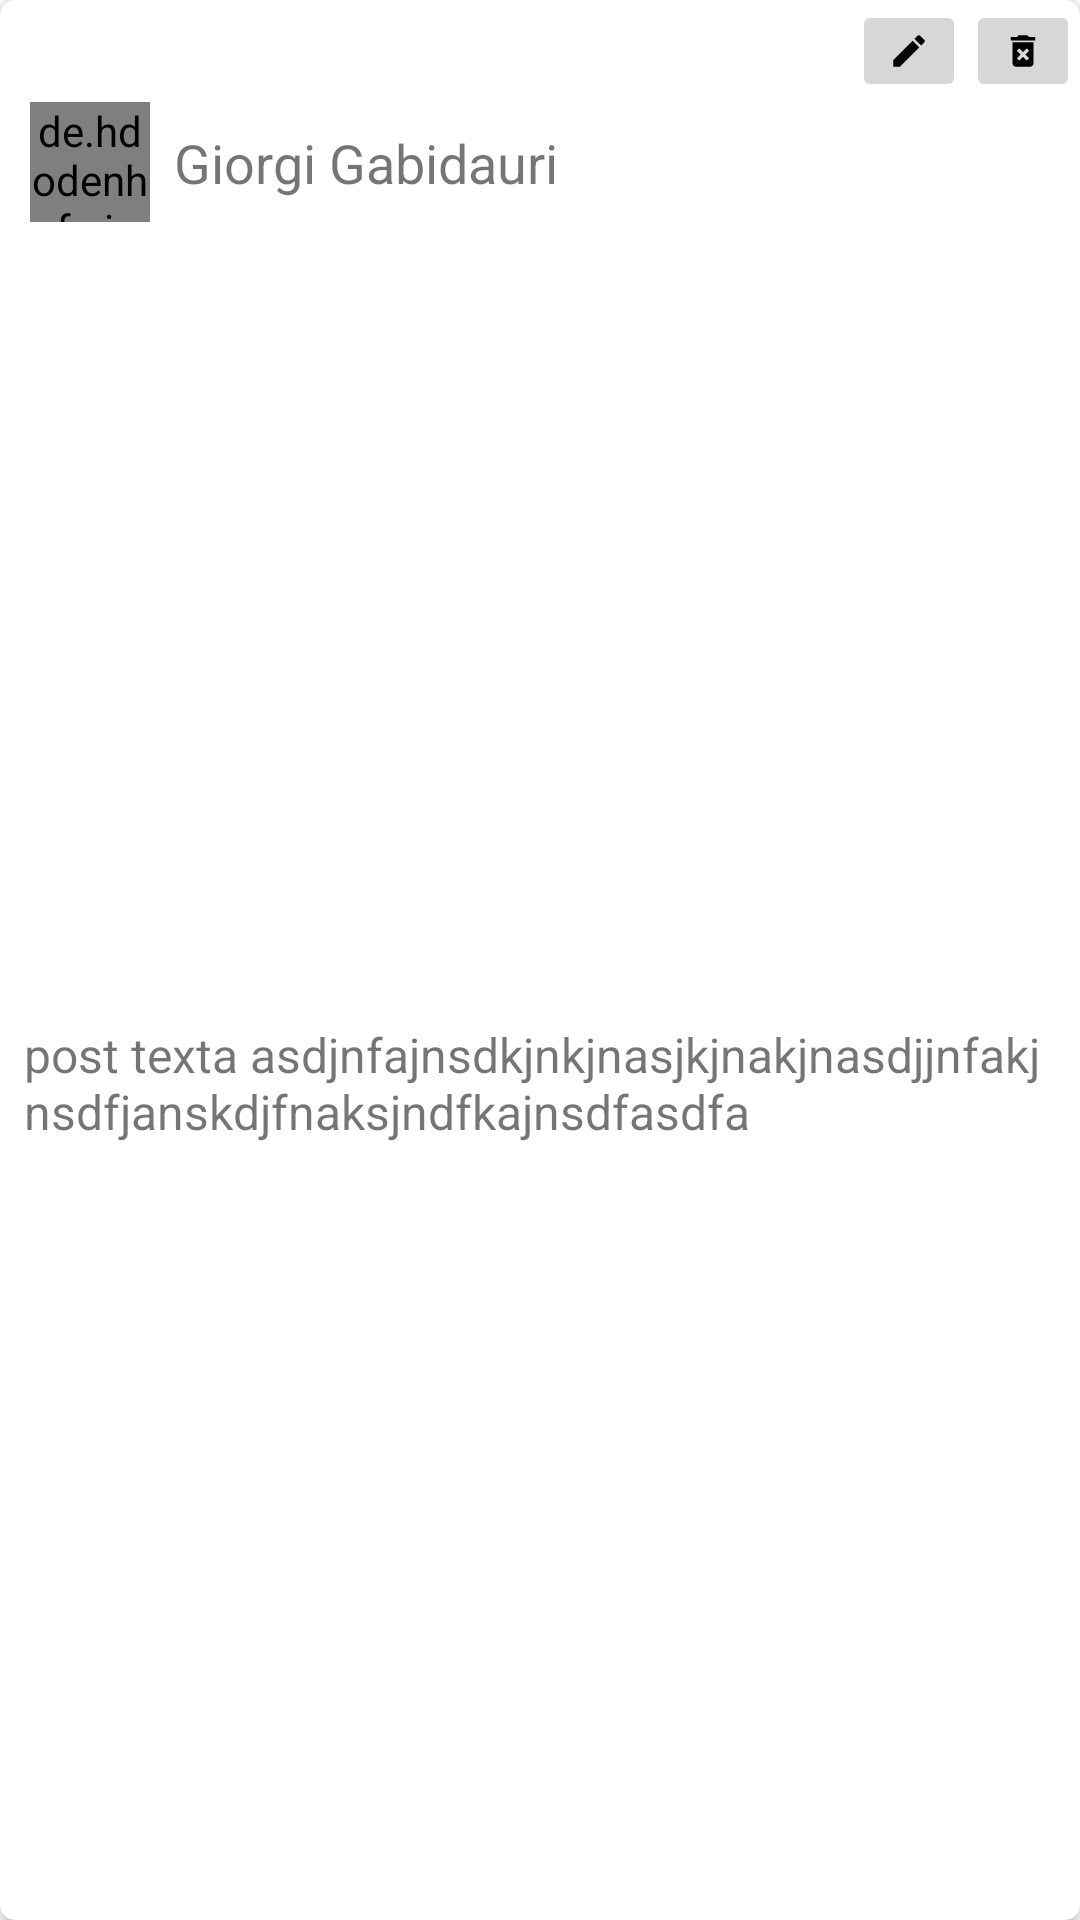

Named icons in this screenshot (1080px×1920px) and their bounding boxes, [x1, y1, x2, y2]:
delete: [978, 9, 1080, 84]
edit: [864, 18, 954, 84]
